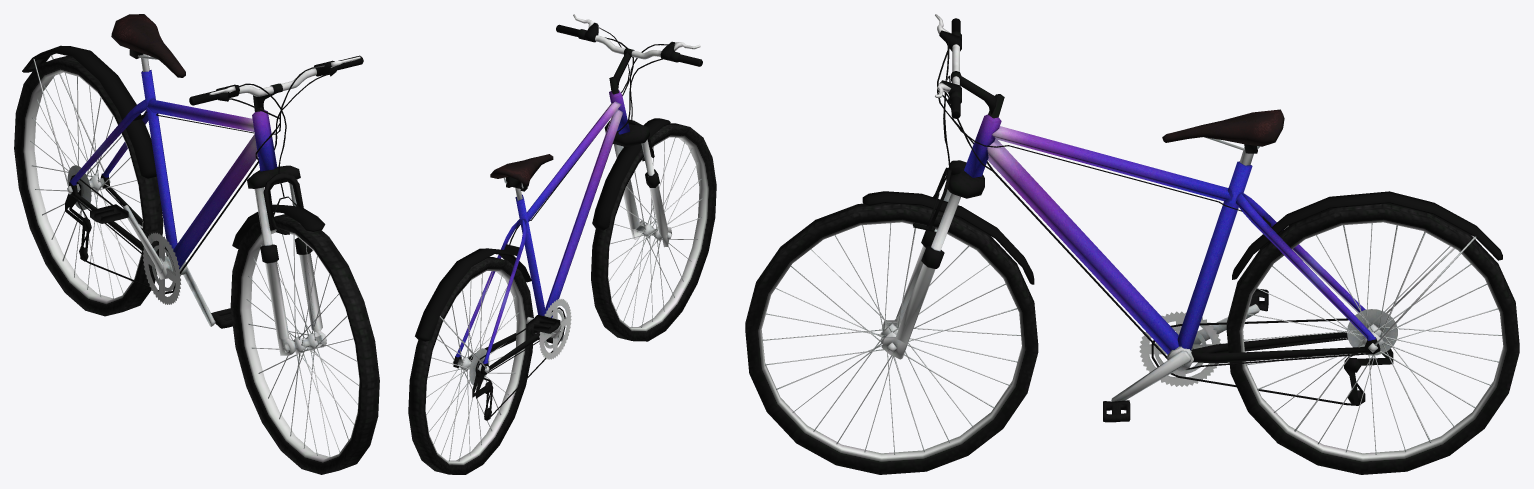
The model's file is Bicycle.obj.
The picture shows the model from 3 angles, left to right: view 1: azimuth 30°, elevation 25°; view 2: azimuth 150°, elevation 25°; view 3: azimuth 270°, elevation 25°; orthographic projection. The views are drawn at different scales.
Visible parts, largest first — view 1: Bicycle; view 2: Bicycle; view 3: Bicycle.
Part boxes in pixels (box(x1,y1,x2,y2)): Bicycle: box(14, 14, 379, 474); Bicycle: box(408, 14, 716, 474); Bicycle: box(745, 14, 1519, 474).
Size of the model in its own units: 1.09 by 2.29 by 3.86.
Materials: 1 (1 with a texture image).
